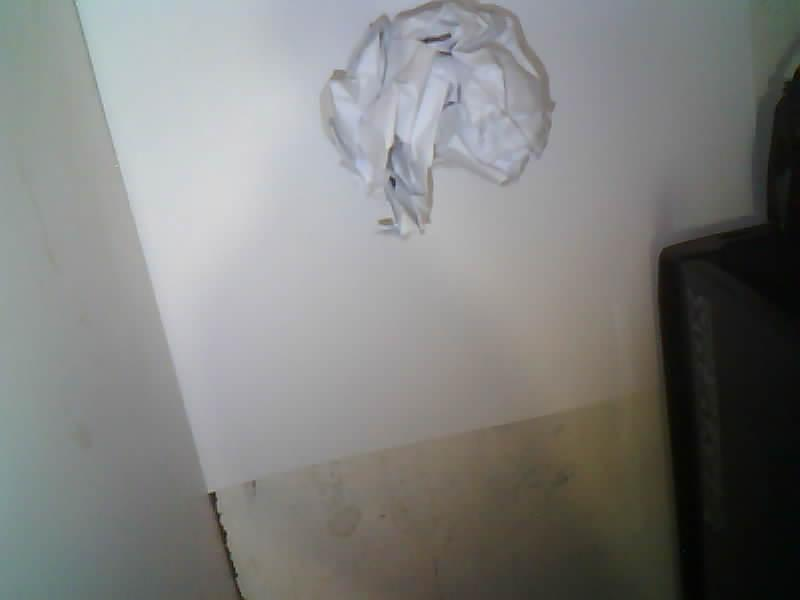biodegradable: (321, 0, 553, 233)
